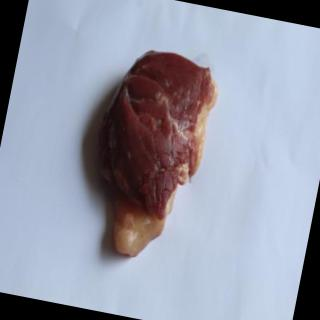Daging Sapi: (85, 42, 224, 273)
